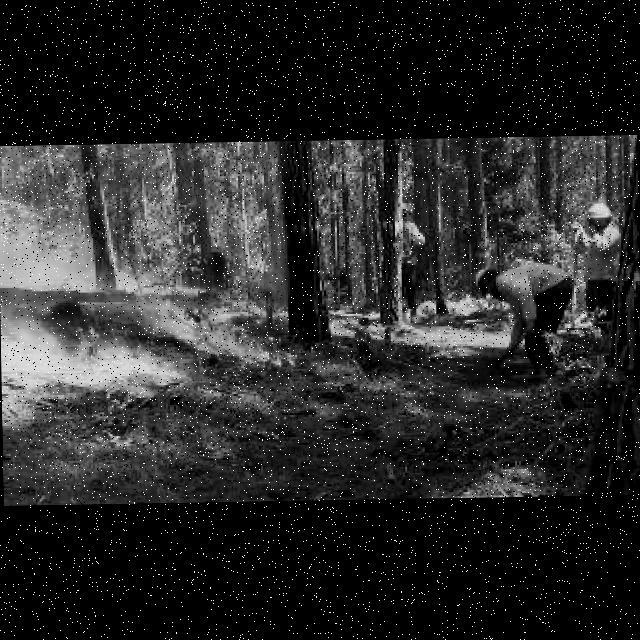Fire: (134, 289, 299, 370), (214, 289, 260, 314), (111, 375, 177, 390), (73, 336, 97, 362)
Smoke: (2, 309, 75, 370), (110, 269, 196, 296)
